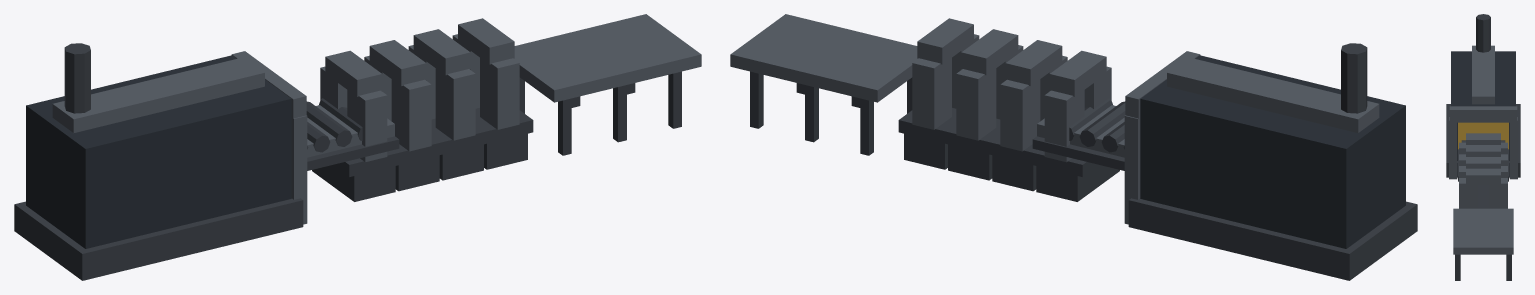
The model's file is rebar_mill_hero.glb.
The picture shows the model from 3 angles, left to right: view 1: azimuth 30°, elevation 25°; view 2: azimuth 150°, elevation 25°; view 3: azimuth 270°, elevation 25°; orthographic projection. The views are drawn at different scales.
Visible parts, largest first — view 1: rebar_mill_static_steel_light, furnace_shell, rebar_mill_static_steel_dark; view 2: rebar_mill_static_steel_light, furnace_shell, rebar_mill_static_steel_dark; view 3: rebar_mill_static_steel_light, furnace_shell, rebar_mill_static_steel_dark, charge_gate.
Part boxes in pixels (x1,y1,x2,y2): rebar_mill_static_steel_light: (52,14,701,224); furnace_shell: (26,55,291,248); rebar_mill_static_steel_dark: (14,43,681,280); rebar_mill_static_steel_light: (730,14,1379,224); furnace_shell: (1140,55,1405,248); rebar_mill_static_steel_dark: (750,43,1417,280); rebar_mill_static_steel_light: (1449,45,1517,254); furnace_shell: (1451,51,1515,160); rebar_mill_static_steel_dark: (1446,14,1520,280); charge_gate: (1458,122,1508,149).
Bounding box in the file's own units: 8.5 × 2.6 × 1.6.
